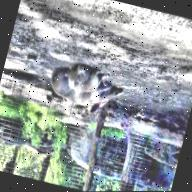boar: (35, 70, 116, 119)
